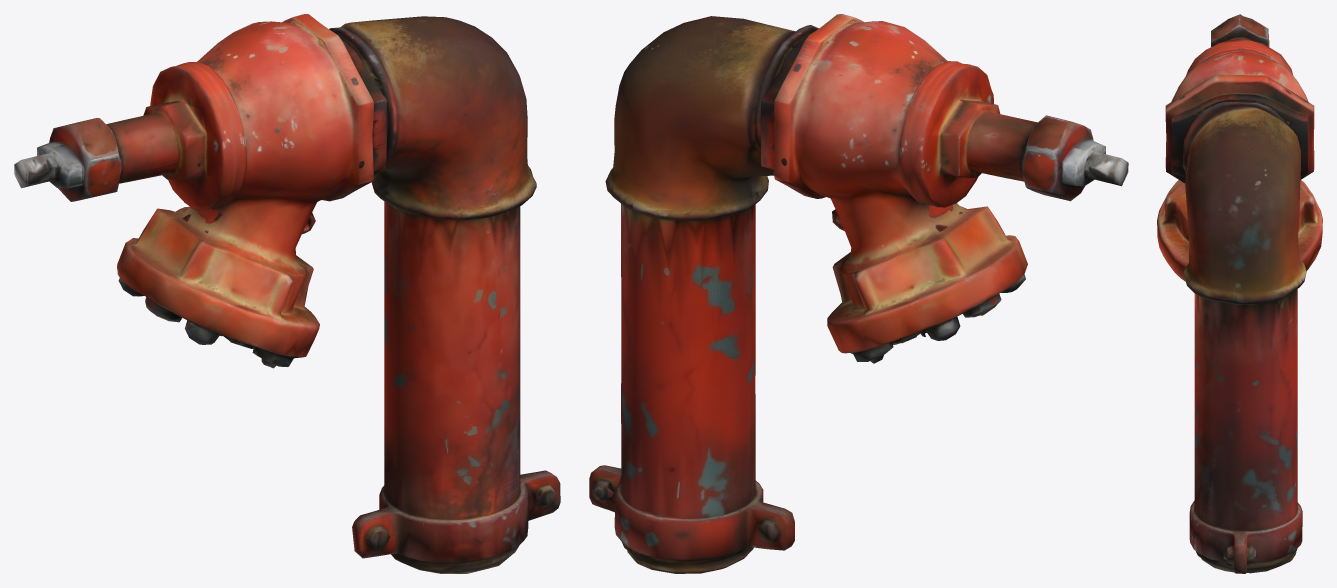
Rendered from Meshy_AI_Fire_Hydrant_0212125858_texture.fbx.
3 views of the same model, side by side, from view 1: azimuth 30°, elevation 25°; view 2: azimuth 150°, elevation 25°; view 3: azimuth 270°, elevation 25° (orthographic). The views are drawn at different scales.
Visible parts, largest first — view 1: Mesh1.0; view 2: Mesh1.0; view 3: Mesh1.0.
Part boxes in pixels (bbox=[...]): Mesh1.0: bbox=[14, 14, 560, 573]; Mesh1.0: bbox=[589, 14, 1128, 573]; Mesh1.0: bbox=[1157, 14, 1322, 573].
Bounding box in the file's own units: 198 × 201 × 70.06.
Materials: 1 (1 with a texture image).
